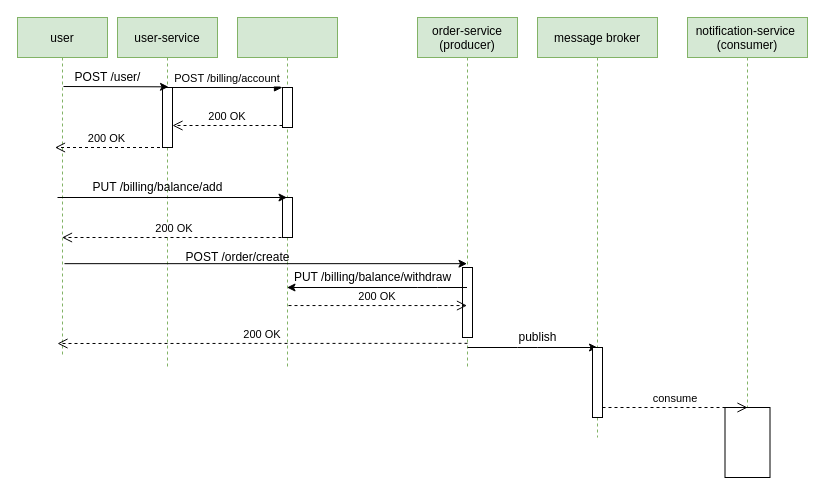
Some shapes in this 825 by 495 pixel diagram are drawn without their labels. The box of each missing label's shape, as (x1, y1, x2, y2) in pixels:
billing-service: (236, 16, 338, 368)
send email: (724, 406, 770, 478)
